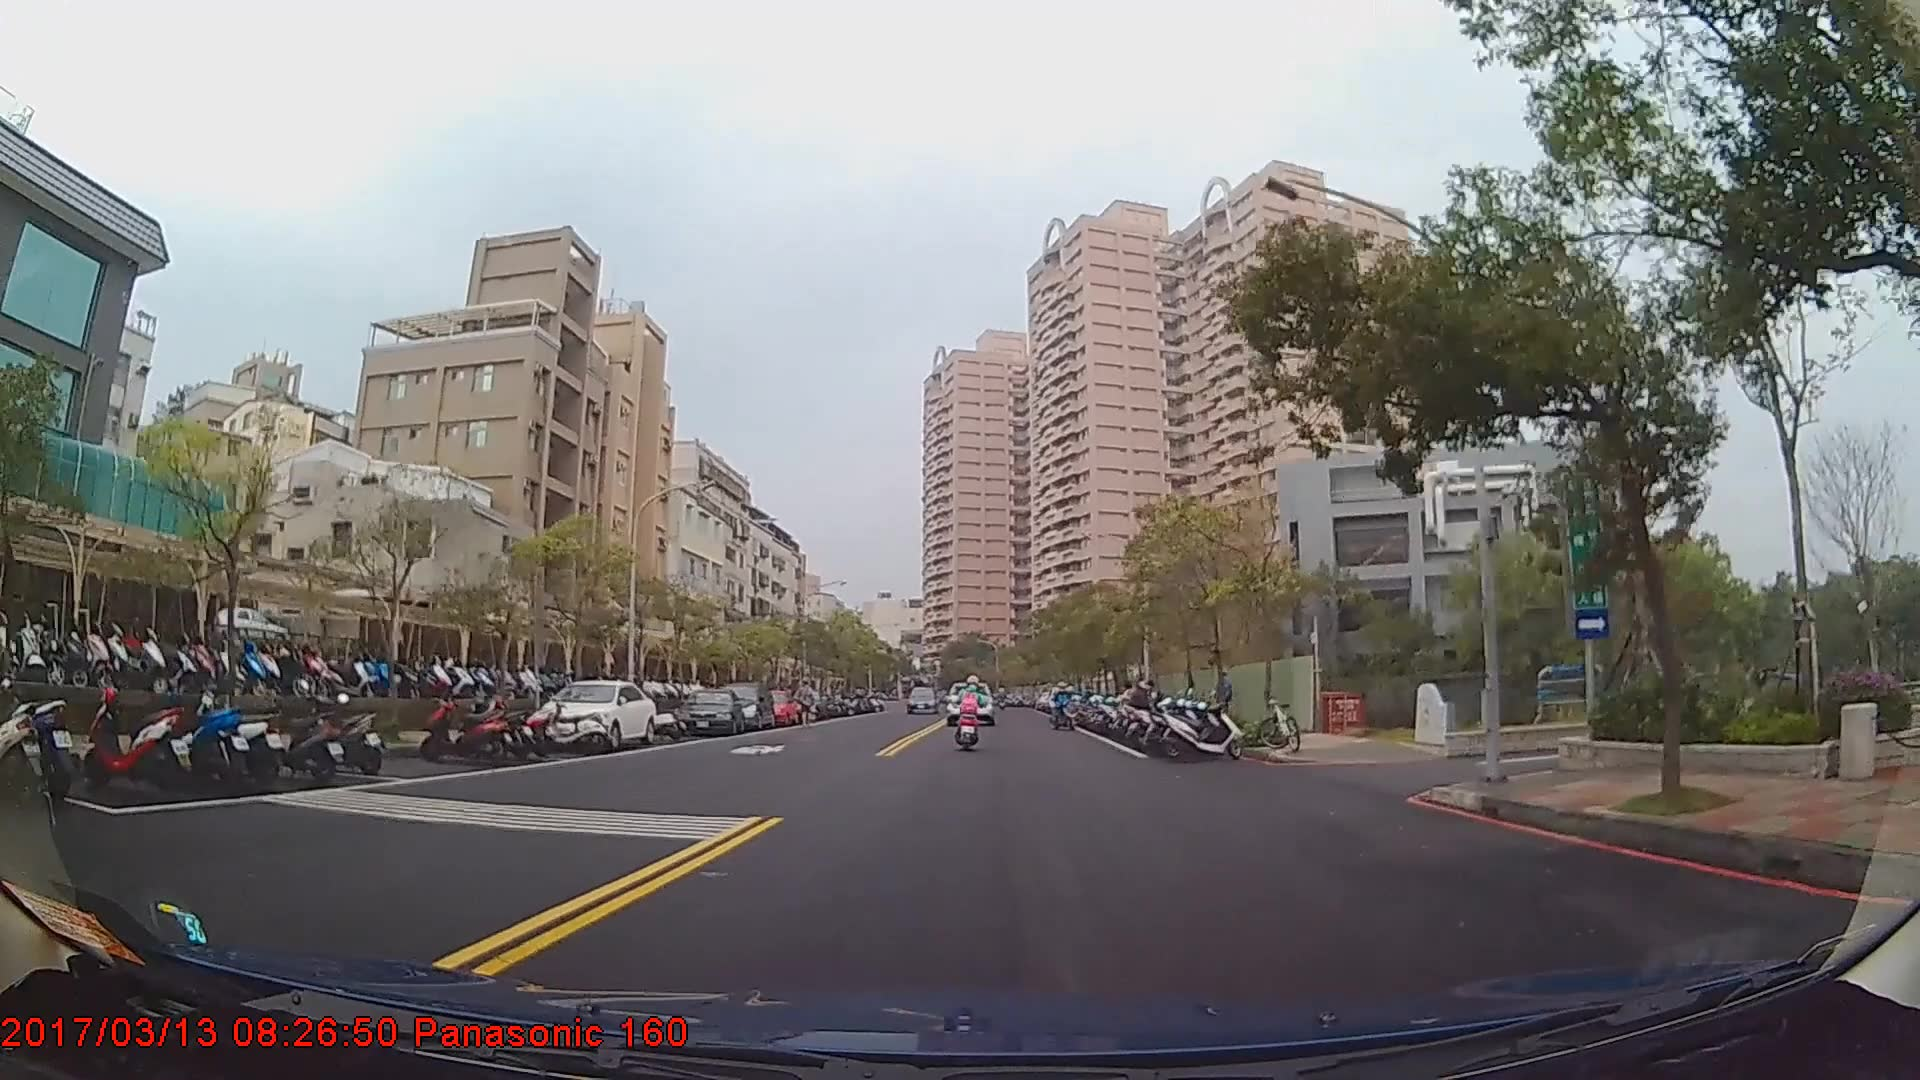pedestrian: (1213, 671, 1236, 729), (795, 682, 818, 730)
rider: (958, 672, 987, 744), (1051, 680, 1076, 728)
vehicle: (536, 677, 657, 747), (675, 686, 742, 734), (714, 680, 776, 730), (945, 680, 995, 726), (904, 686, 937, 713)
